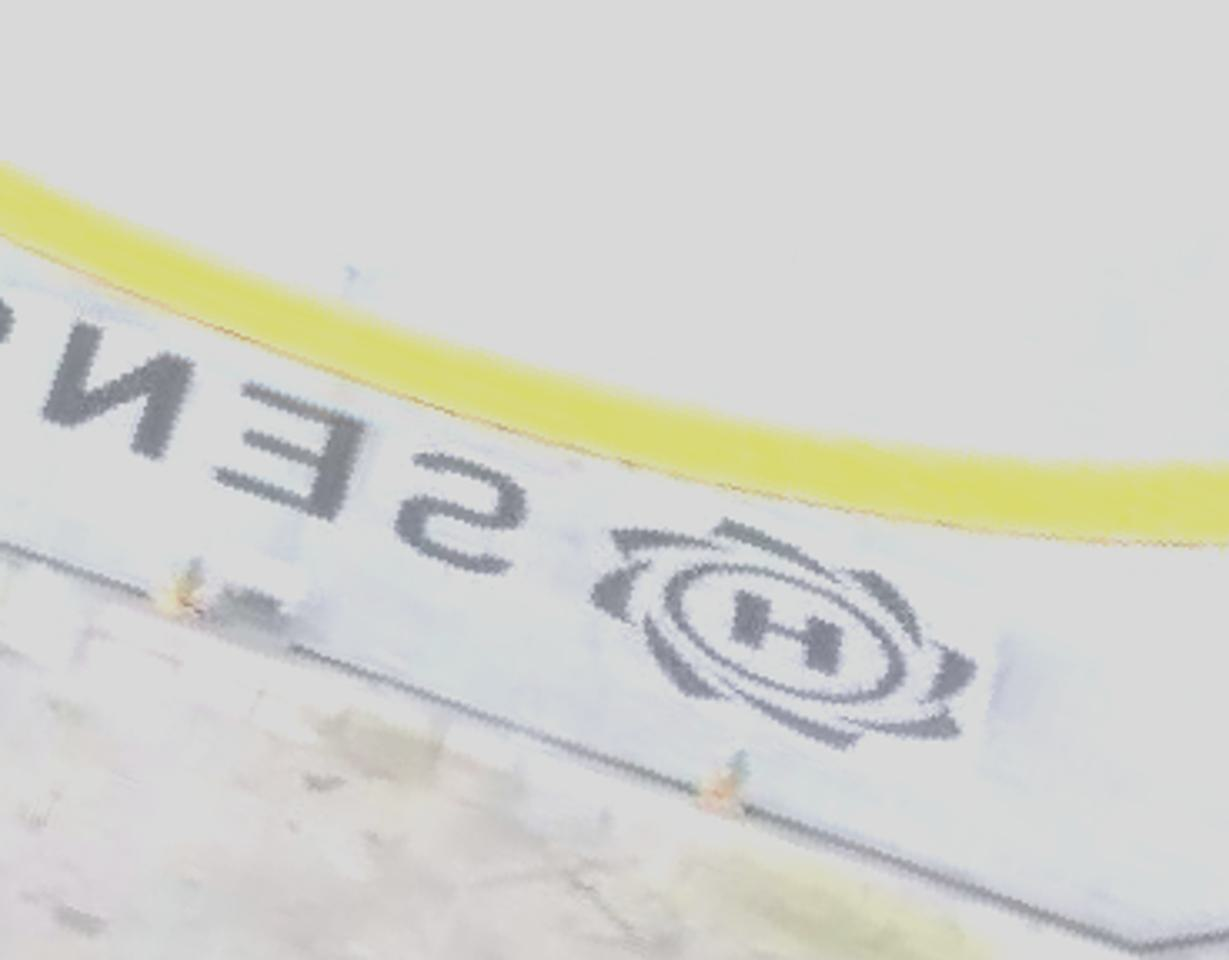Apron: (3, 153, 1229, 597)
